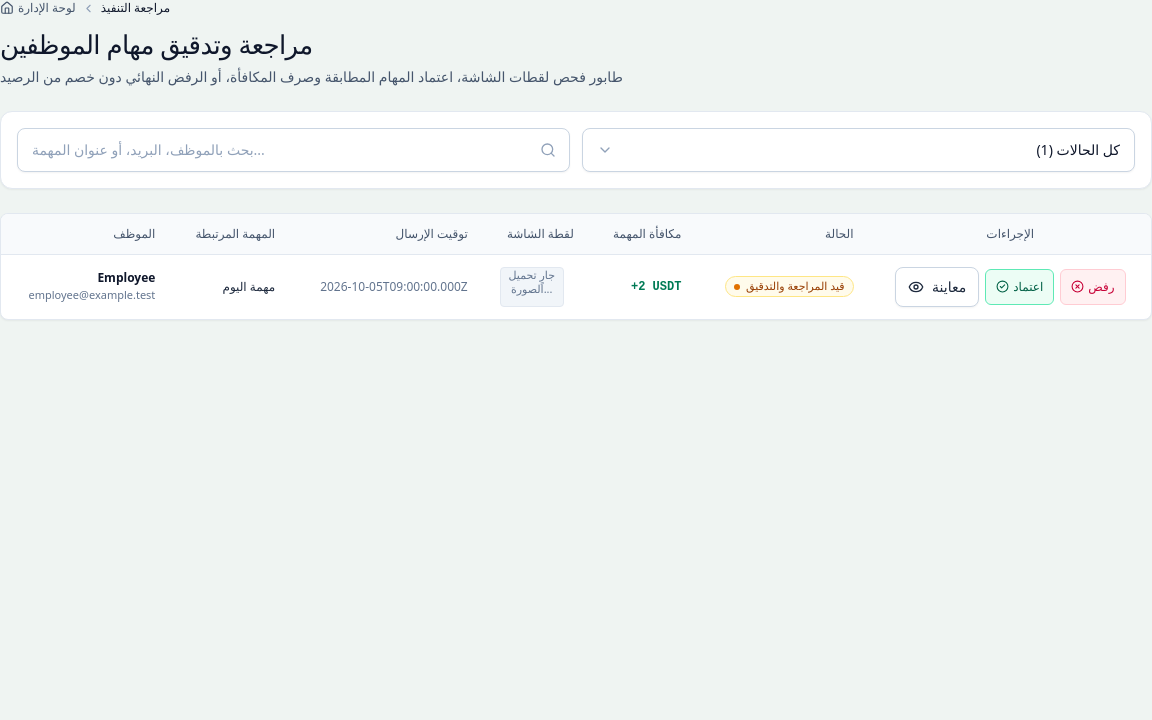
Test: requires evidence then a reasoned versioned REJECT, with no direct list mutation
This screenshot has width=1152, height=720.
Click the button "اعتماد" at (1020, 287), box [985,269,1054,305]
(page scrolled)
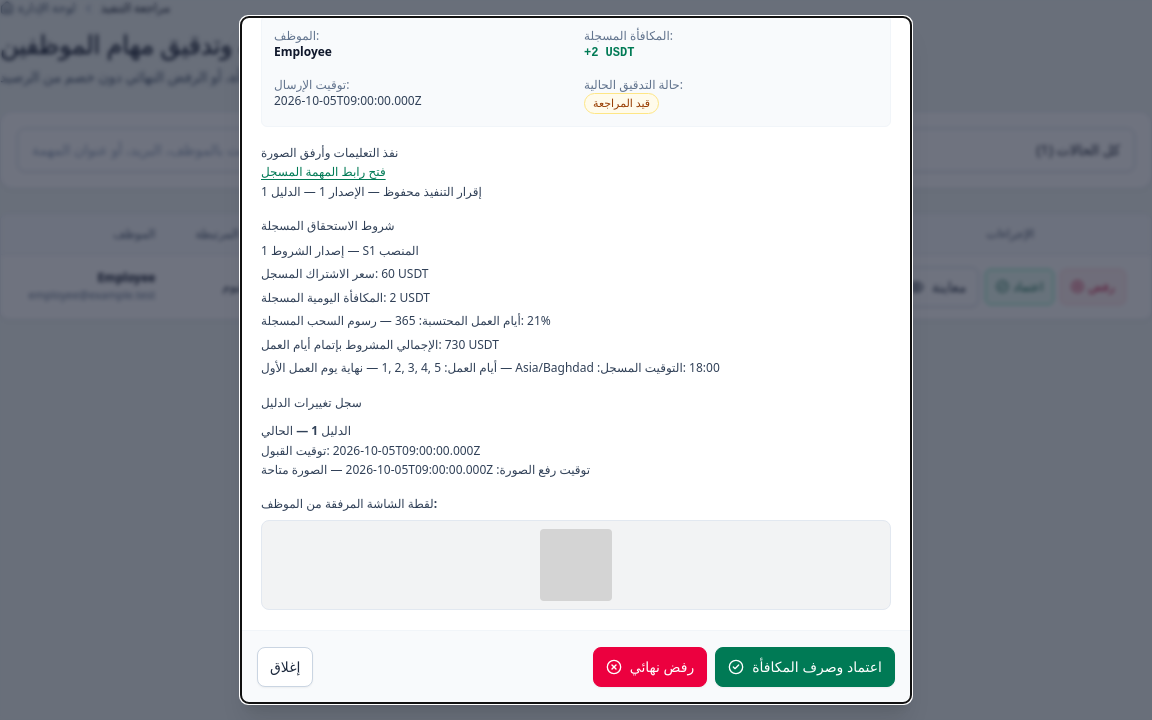
Expected: the text "إقرار التنفيذ محفوظ — الإصدار 1 — الدليل 1" is shown, [261,183,482,200]
Click the button "رفض نهائي" at (650, 667), box [593,647,707,687]
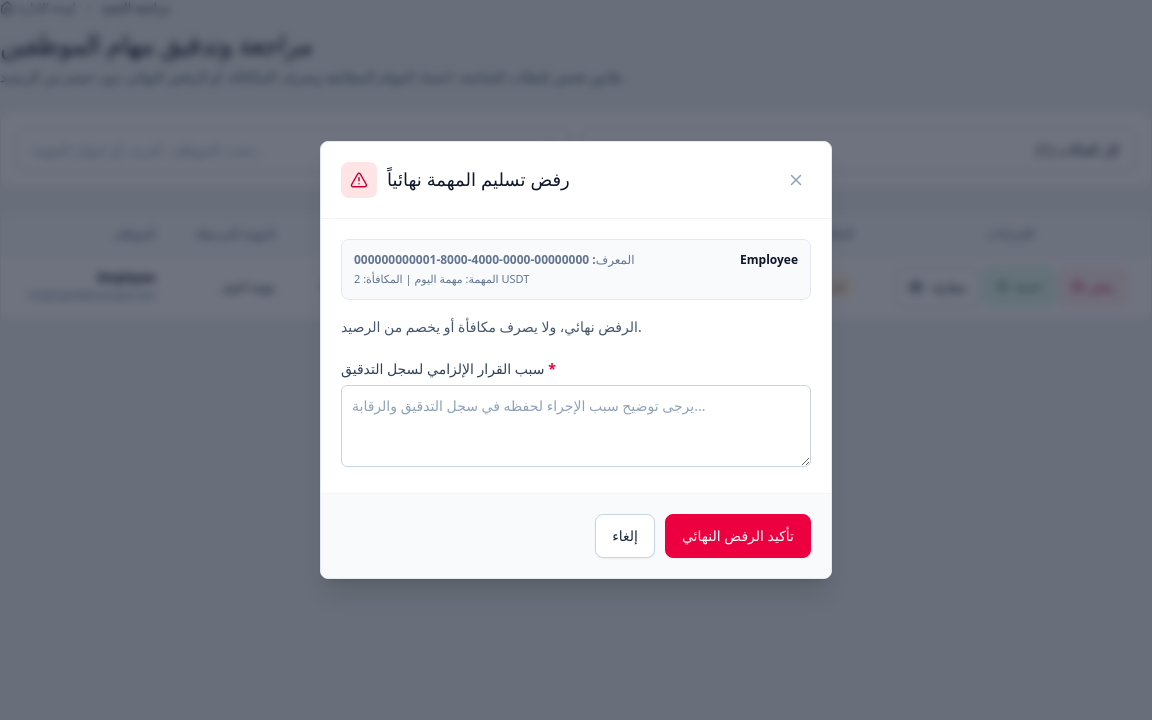
Click the button "تأكيد الرفض النهائي" at (738, 536), box [665,514,811,558]
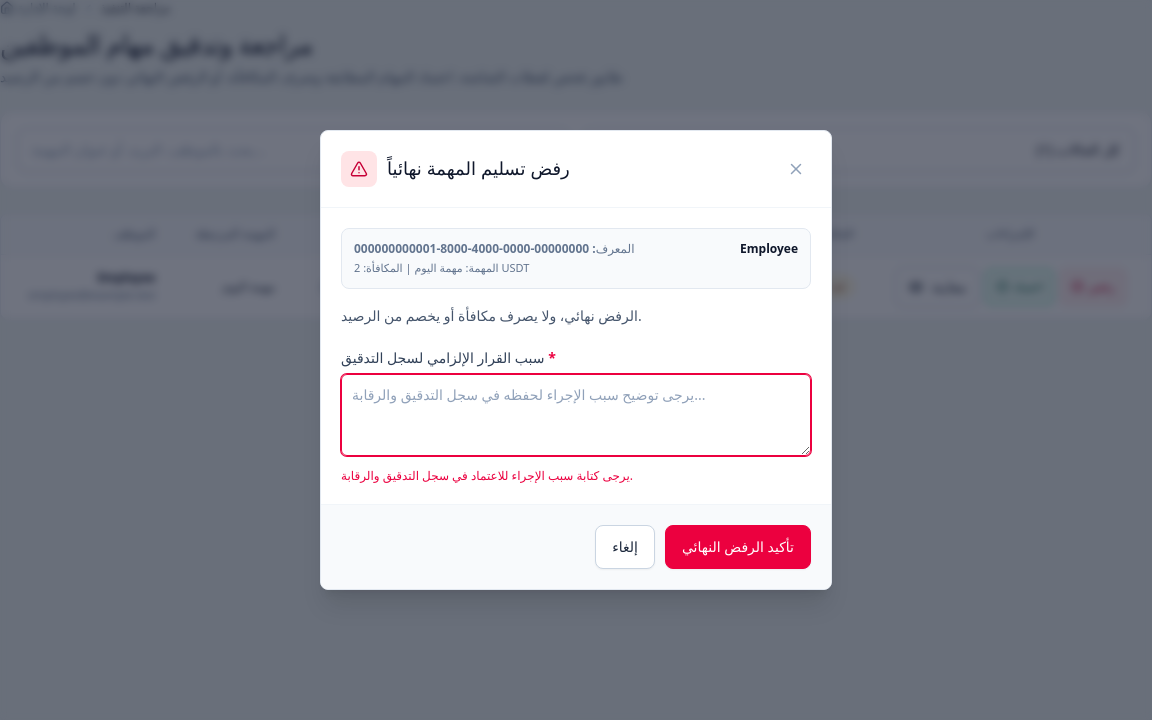
Type "سبب محفوظ" into the text box at (576, 415), box [341,374,811,456]
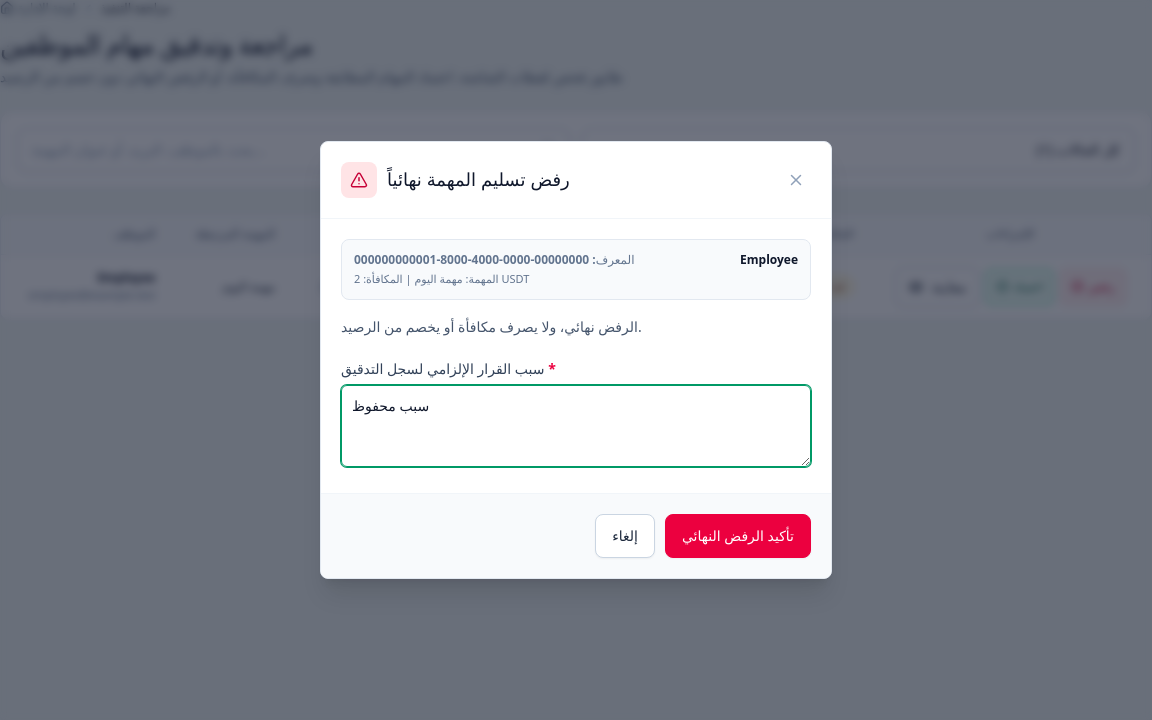
Click the button "تأكيد الرفض النهائي" at (738, 536), box [665,514,811,558]
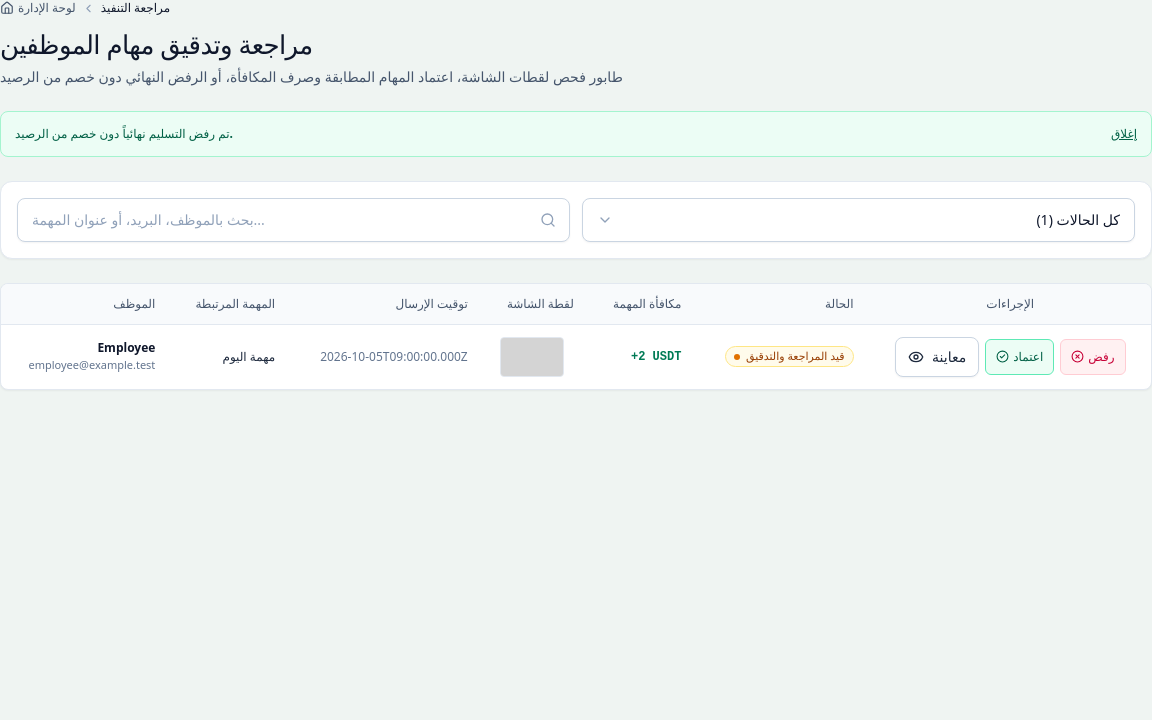
Expected: the dialog is gone
